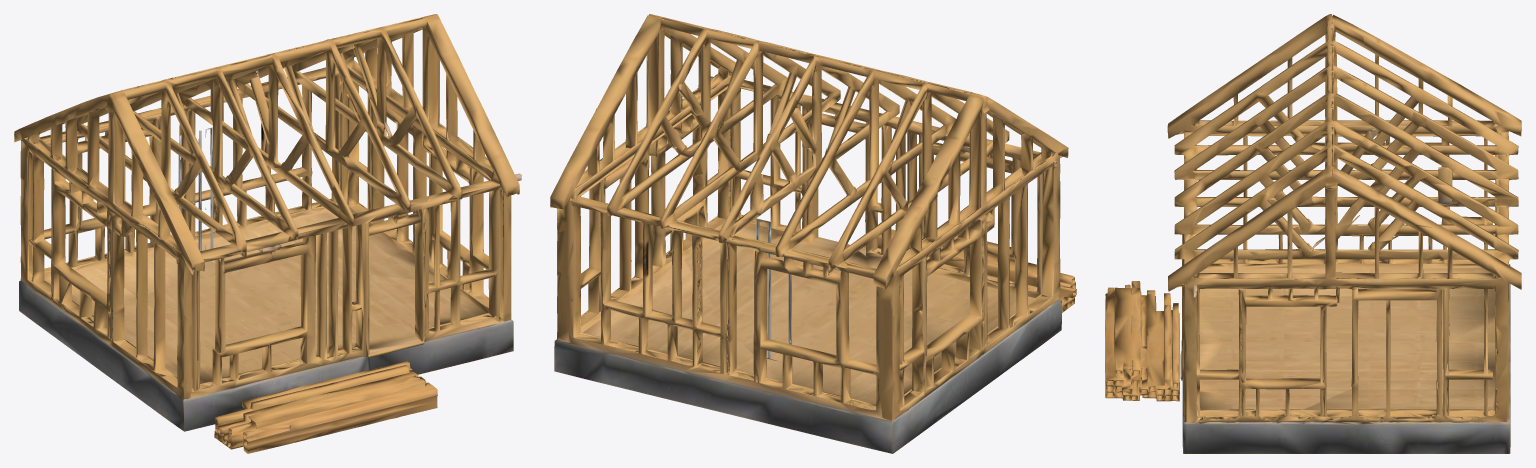
File: frameAlt-standard.glb
The picture shows the model from 3 angles, left to right: view 1: azimuth 30°, elevation 25°; view 2: azimuth 150°, elevation 25°; view 3: azimuth 270°, elevation 25°; orthographic projection. The views are drawn at different scales.
Visible parts, largest first — view 1: world; view 2: world; view 3: world.
Part boxes in pixels (box(x1,y1,x2,y2)): world: box(14, 14, 521, 453); world: box(550, 14, 1076, 453); world: box(1105, 14, 1521, 453).
Bounding box in the file's own units: 0.9509 × 0.7463 × 1.
Materials: 1 (1 with a texture image).
